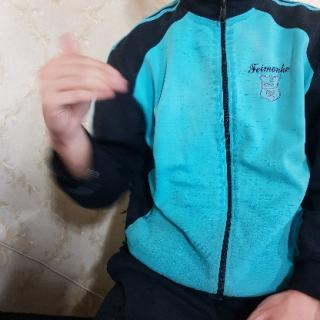KHAA: (35, 28, 135, 145)
